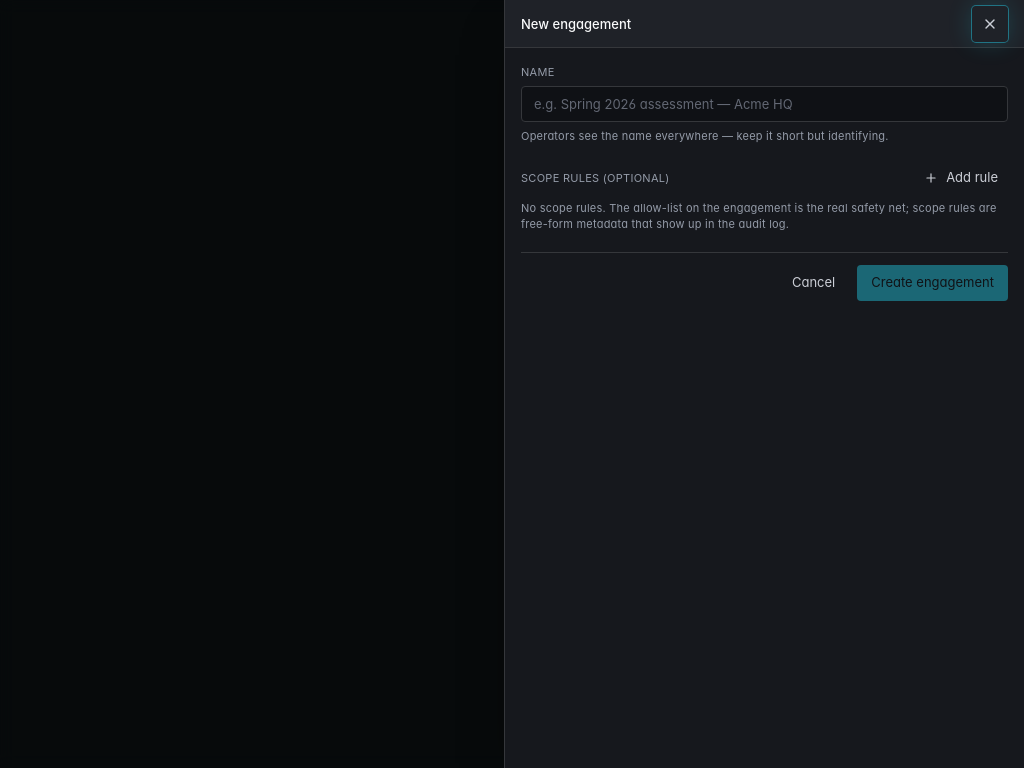
Test: CreateEngagementDrawer › keeps Create disabled until a name is entered
This screenshot has width=1024, height=768.
Expected: the button "Create engagement" is disabled, [857, 265, 1008, 301]
Type "Spring" into the field labelled "Name" at point(764, 104), box [521, 86, 1008, 122]
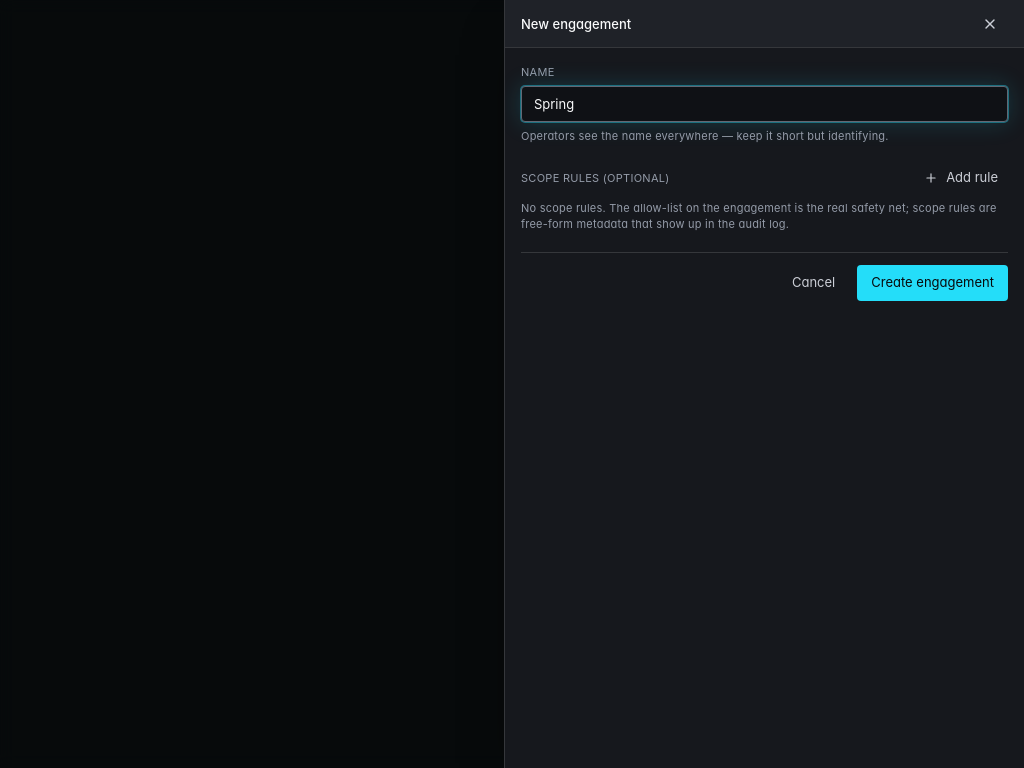
Now the button "Create engagement" is enabled, box [857, 265, 1008, 301]
